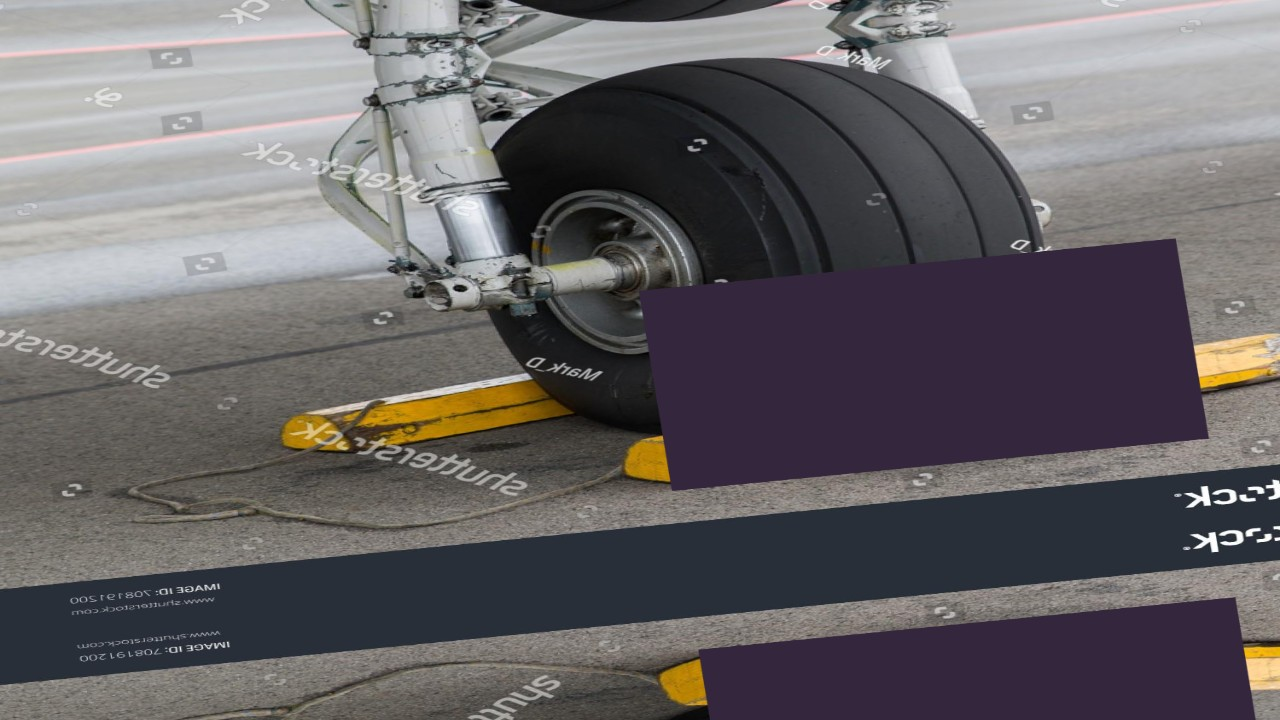chock: (599, 325, 1280, 492), (643, 589, 1280, 720), (270, 346, 785, 460)
wheel: (479, 26, 1071, 449)
